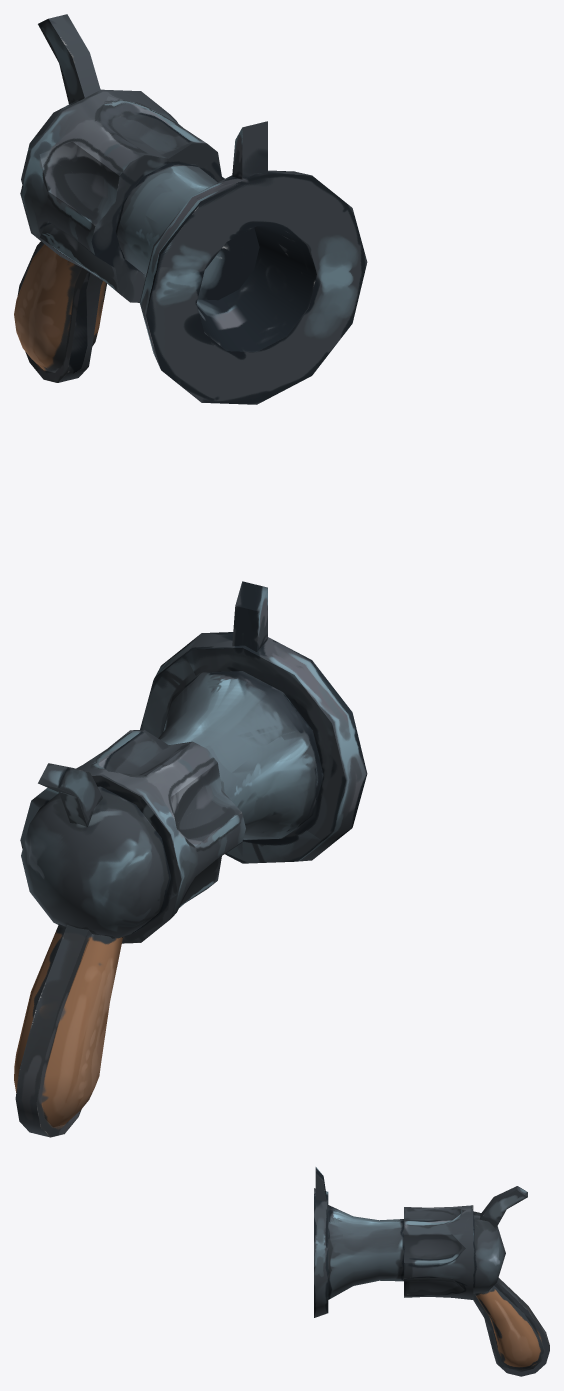
Rendered from Gun.fbx.
3 views of the same model, one above another, from view 1: azimuth 30°, elevation 25°; view 2: azimuth 150°, elevation 25°; view 3: azimuth 270°, elevation 25° (orthographic). The views are drawn at different scales.
Visible parts, largest first — view 1: Gun; view 2: Gun; view 3: Gun.
Part boxes in pixels (<box>): Gun: <box>14,14,367,404</box>; Gun: <box>14,581,367,1137</box>; Gun: <box>314,1167,549,1376</box>.
Bounding box in the file's own units: 7902 × 13660 × 32432.
1 material, 1 textured.
